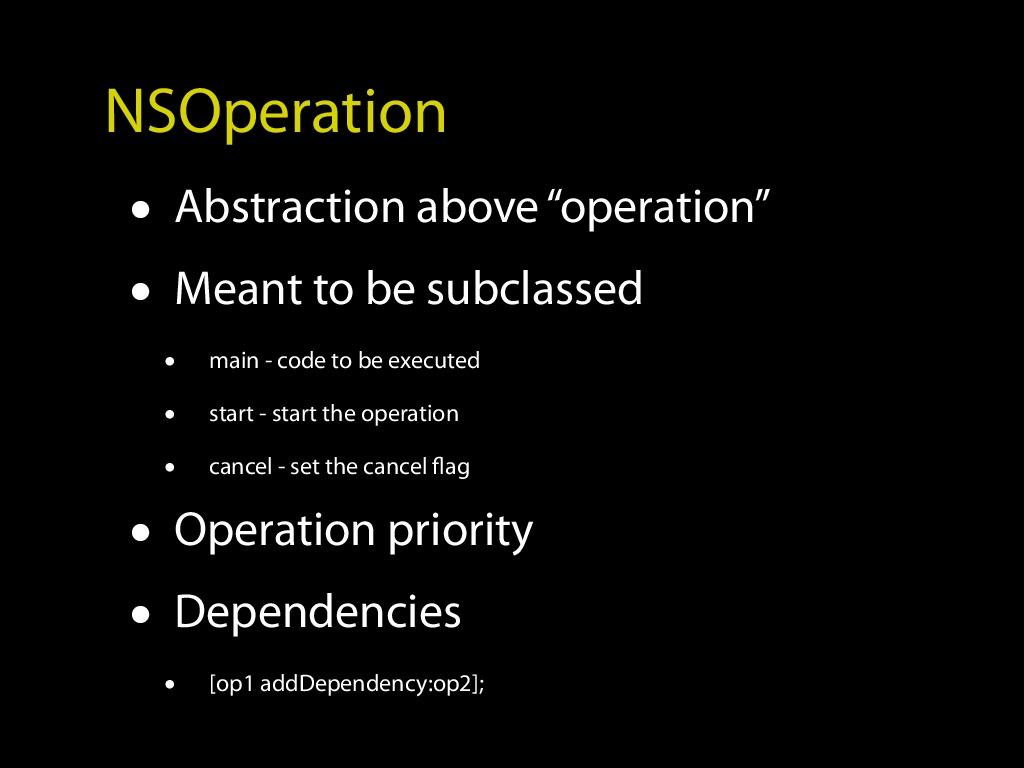paragraph: (117, 172, 866, 727)
title: (80, 53, 503, 153)
